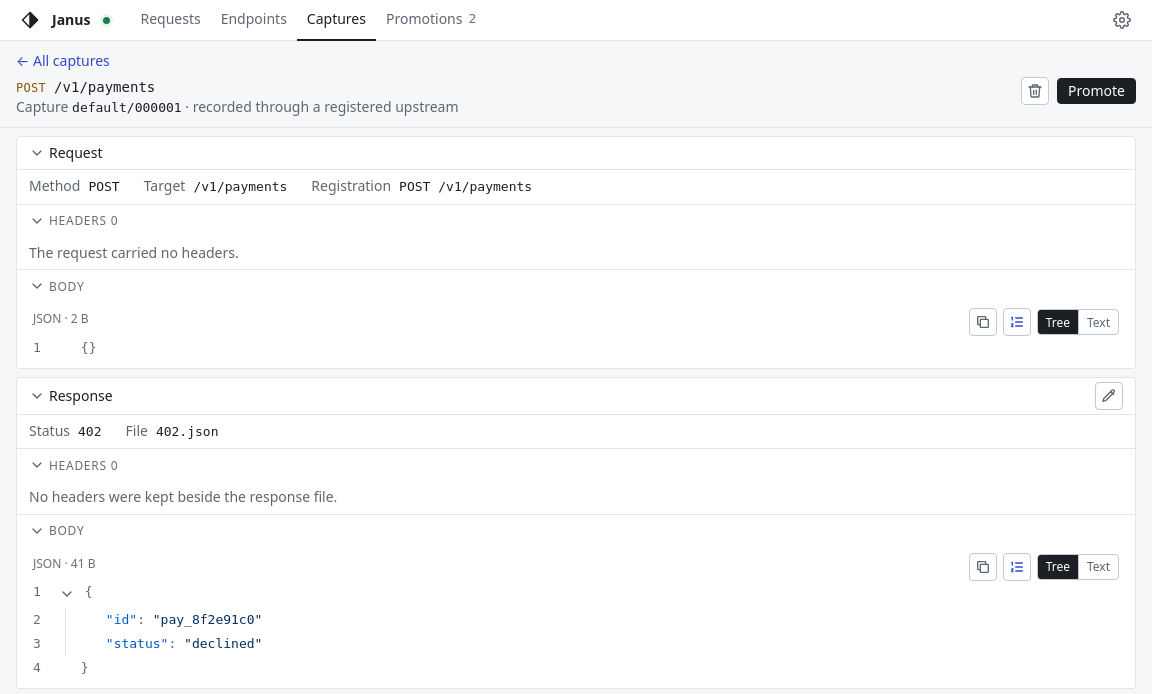
Scenario: Promote on the capture page › edits on the page after the pencil is pressed, and sends only what changed
Click the button named "Edit before promoting" at {"x": 1109, "y": 396}, box [1095,382,1123,410]
(page scrolled)
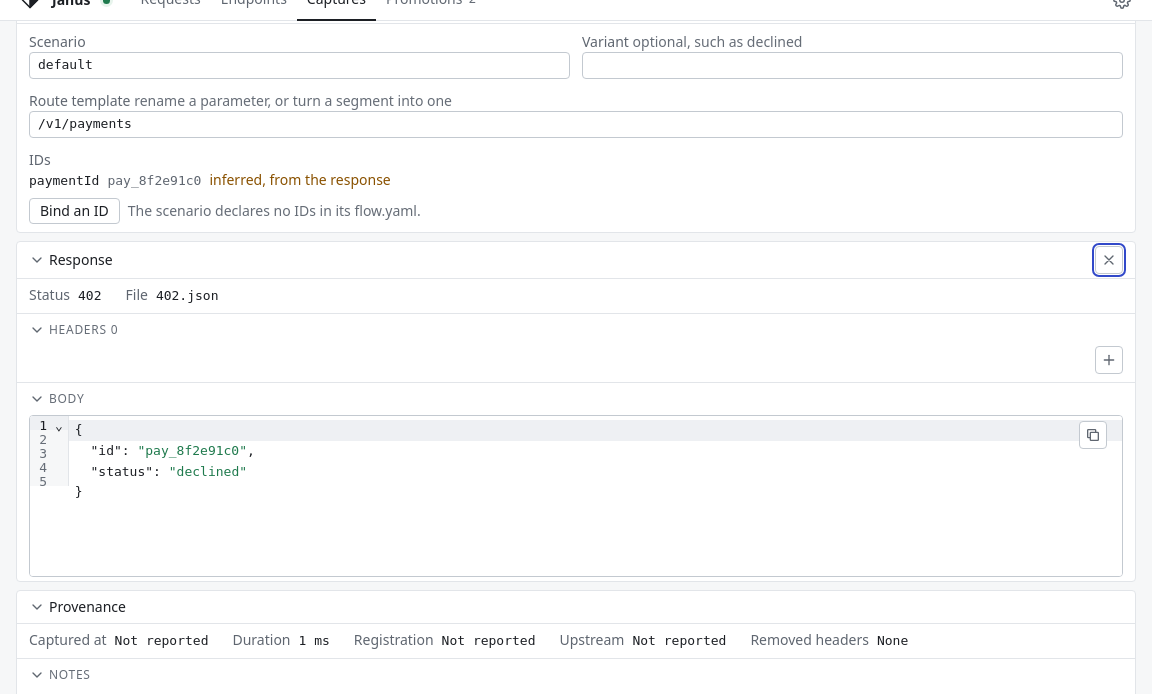
Now the text "pay_8f2e91c0" is shown, box [108,171,201,192]
Now the text "inferred, from the response" is shown, box [209,170,391,190]
Click the button named "Add header" at {"x": 1109, "y": 360}, box [1095,346,1123,374]
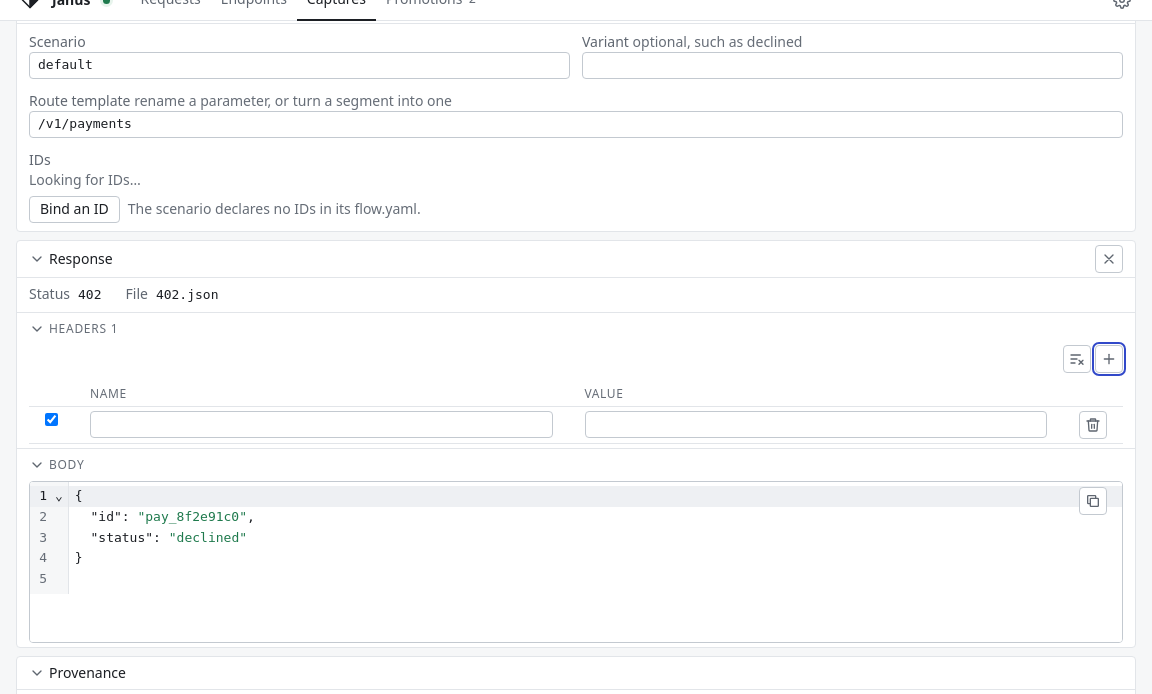
Type "x-edited" into the field named "Response headers name 1" at {"x": 321, "y": 424}, box [90,411,552,438]
Type "yes" into the field named "Response headers value 1" at {"x": 816, "y": 424}, box [584,411,1047,438]
(page scrolled)
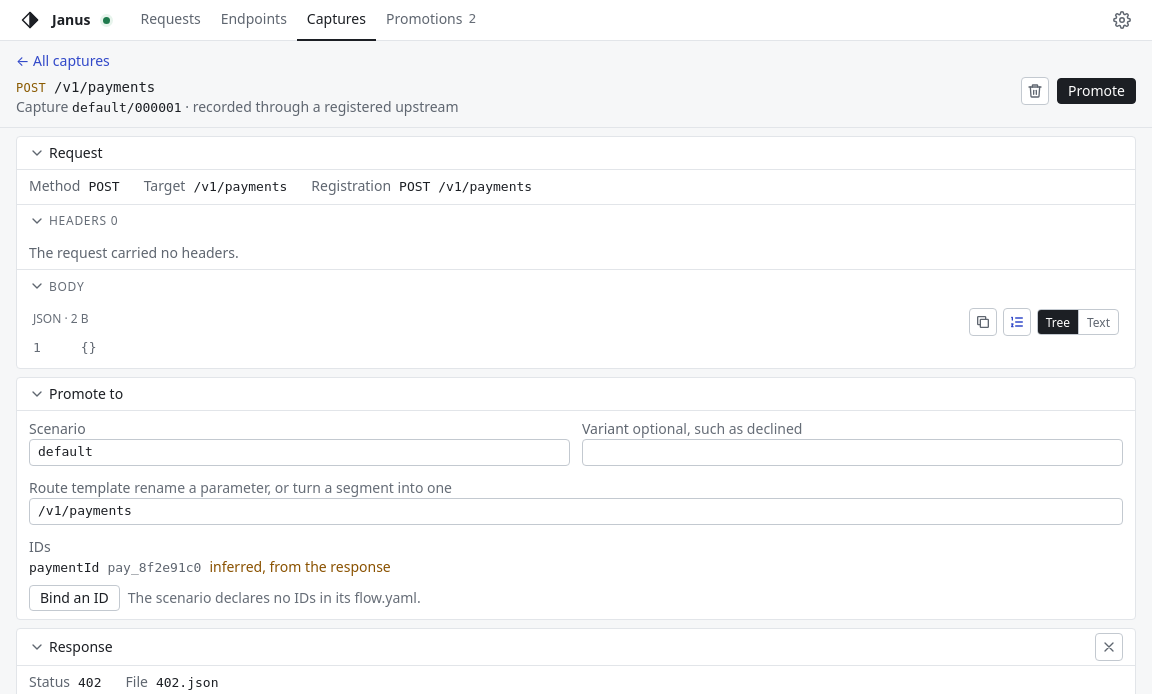
Note: Promote sends the edits.
Click the button "Promote" at {"x": 1096, "y": 91}, box [1057,78,1136,104]
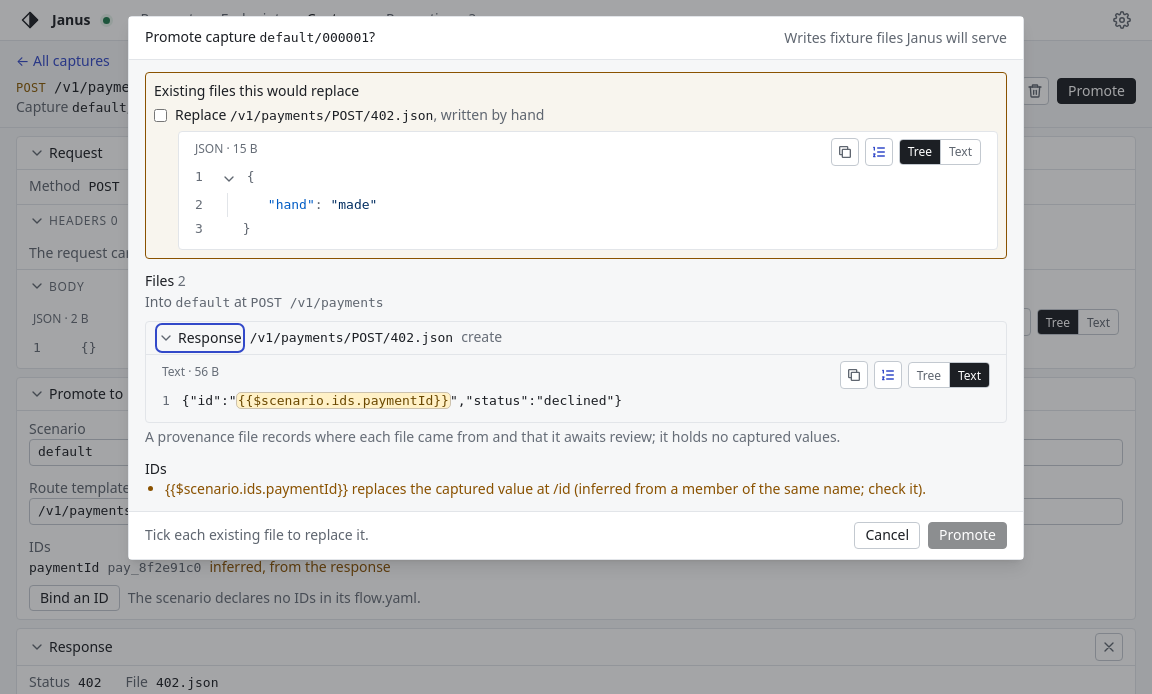
Click the checkbox labelled "Replace /v1/payments/POST/402.json, written by hand" at {"x": 160, "y": 116}, box [154,109,167,122]
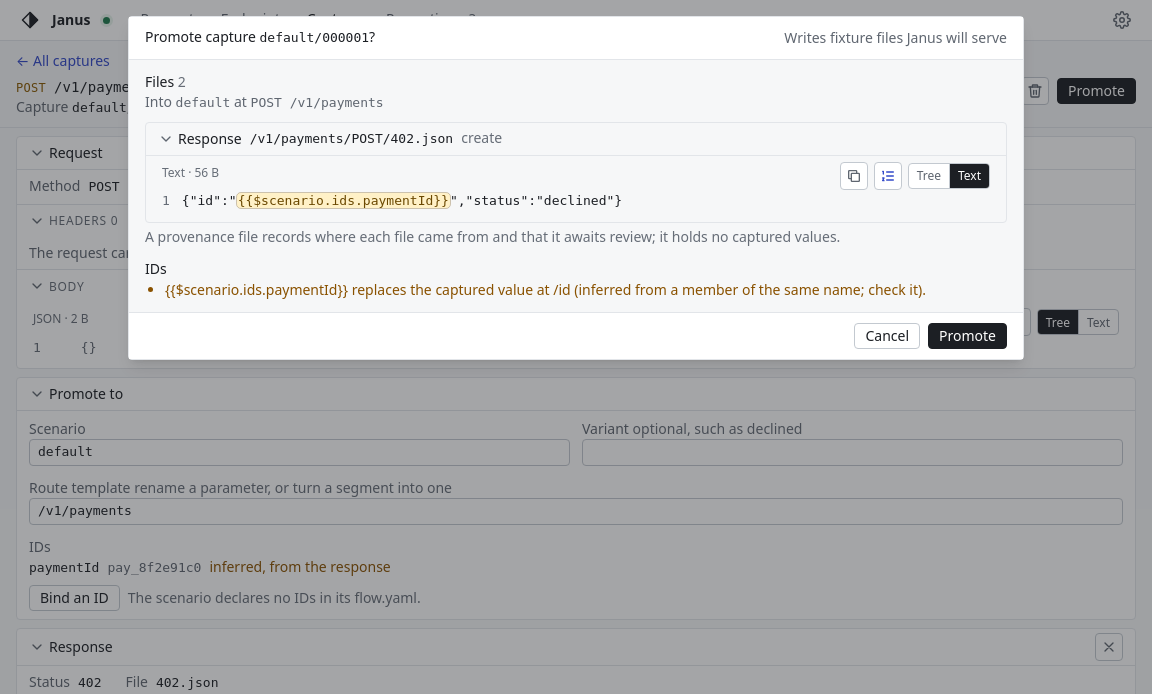
Now the button "Promote" is enabled
Click the button "Promote" at {"x": 968, "y": 336}, box [928,323,1007,349]
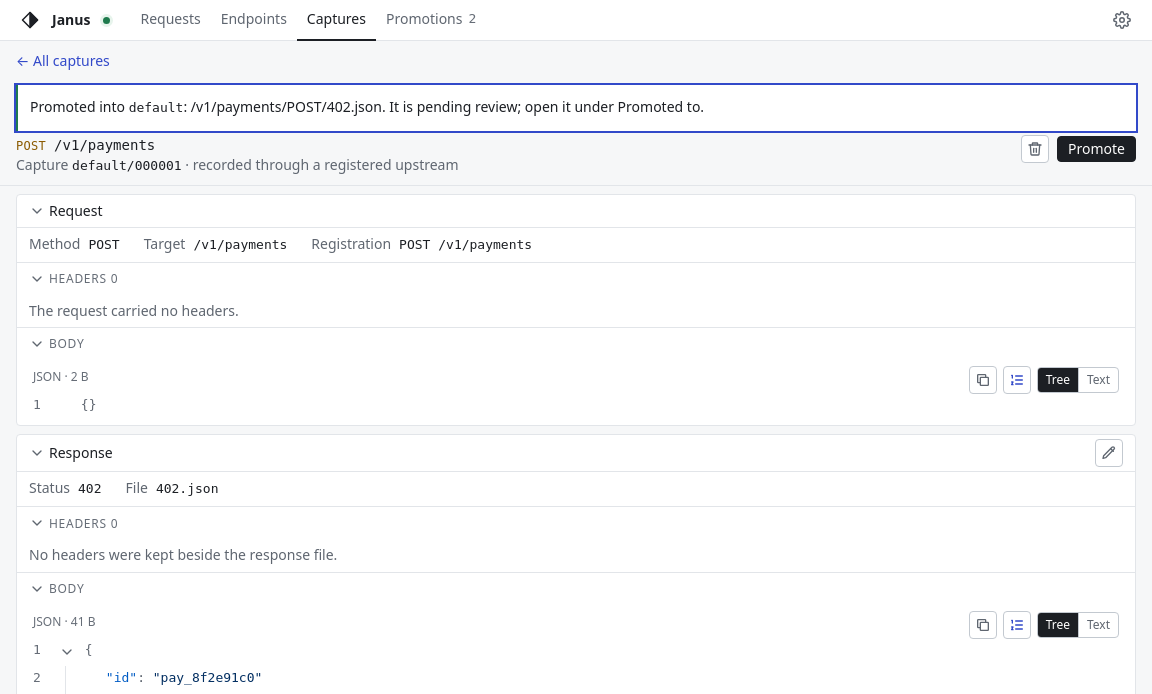
Now the text "It is pending review" is shown, box [382,97,704,116]
Now the button "Promote to" is gone
